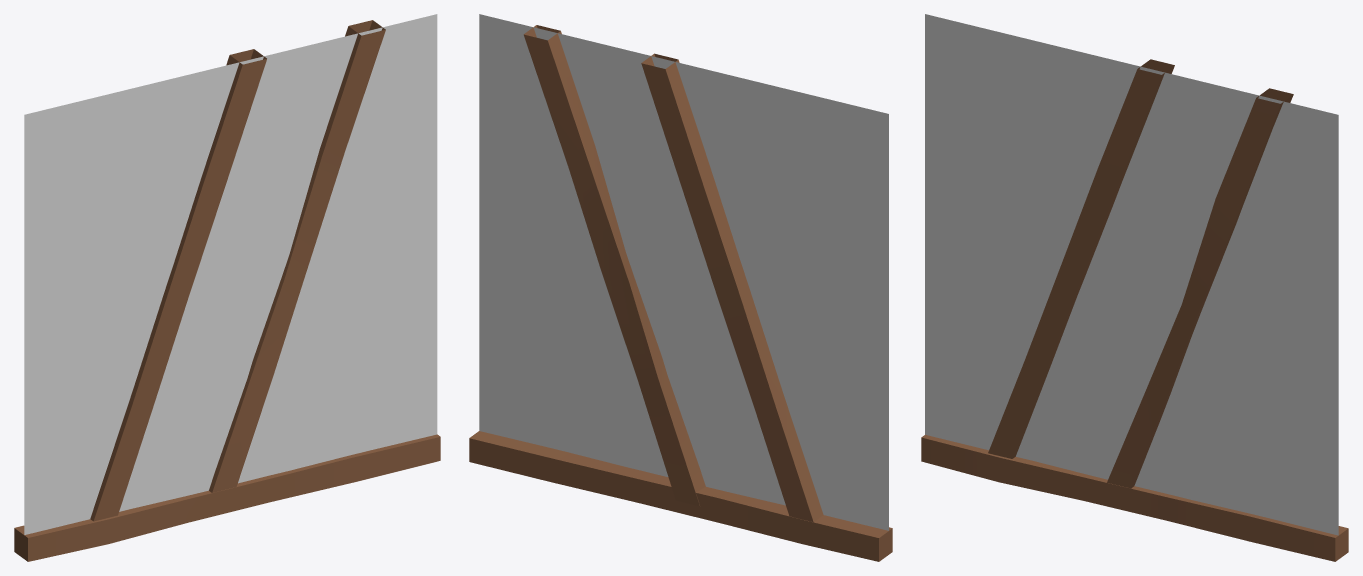
Rendered from PlasterWall3 1.fbx.
3 views of the same model, side by side, from view 1: azimuth 30°, elevation 25°; view 2: azimuth 150°, elevation 25°; view 3: azimuth 330°, elevation 25° (orthographic).
Parts seen in each view (by area): view 1: Plaster Wall3; view 2: Plaster Wall3; view 3: Plaster Wall3.
Boxes of the visible parts, box(x1,y1,x2,y2) form: Plaster Wall3: box(14, 14, 440, 561); Plaster Wall3: box(469, 14, 892, 561); Plaster Wall3: box(921, 14, 1348, 561).
Size of the model in its own units: 200 by 206 by 13.05.
